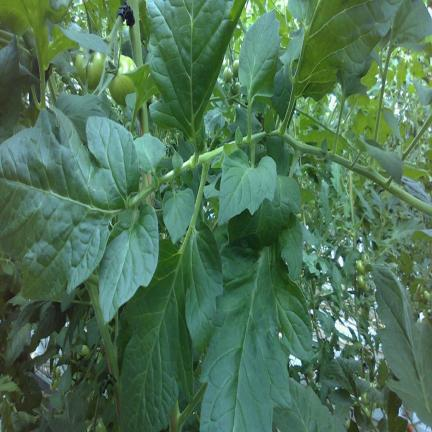6kp_peduncle: (113, 0, 142, 55)
6kp_petiole: (169, 383, 208, 432)
MainStem: (84, 282, 120, 426), (127, 0, 144, 68), (169, 399, 181, 432), (139, 100, 148, 137)
tomato: (109, 55, 136, 105), (76, 47, 105, 89), (87, 418, 106, 431), (77, 344, 90, 359), (72, 371, 83, 386), (223, 67, 232, 82), (96, 352, 103, 371), (356, 260, 364, 274), (357, 274, 365, 288), (361, 253, 369, 266), (233, 60, 239, 77), (232, 83, 240, 95), (361, 392, 368, 405), (423, 290, 430, 302), (363, 281, 370, 292), (369, 402, 376, 412), (55, 367, 60, 378), (53, 378, 58, 388), (50, 383, 55, 391), (370, 382, 376, 387)
